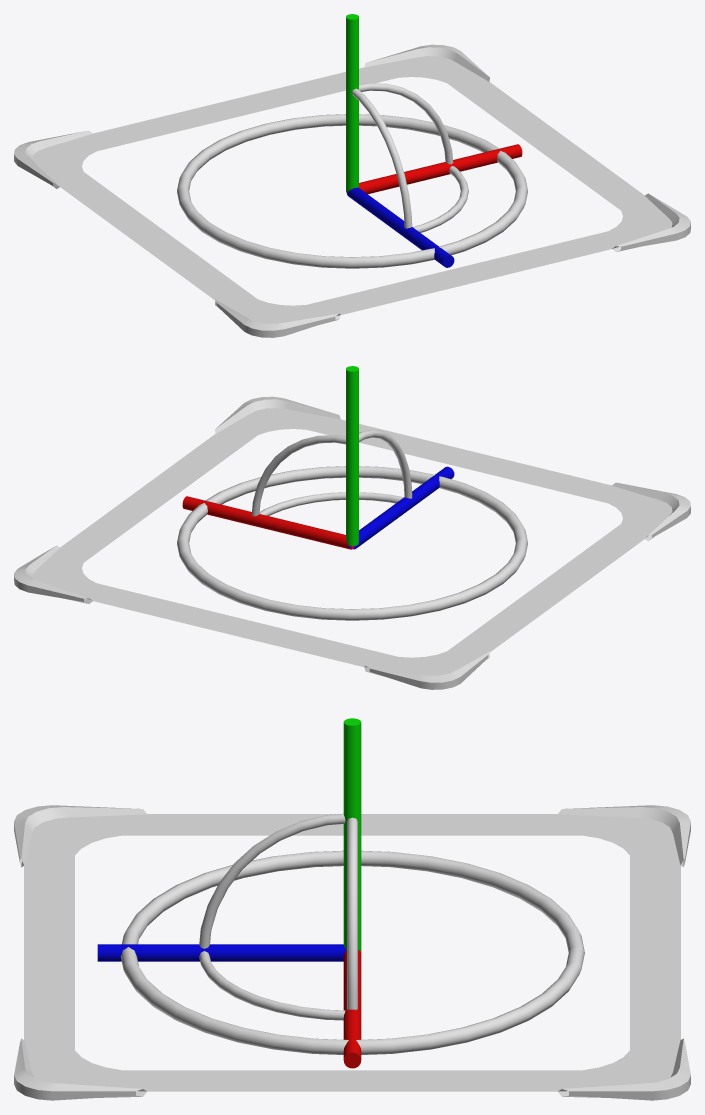
Rendered from Origin_Trace.fbx.
3 renders of one model, top to bottom at view 1: azimuth 30°, elevation 25°; view 2: azimuth 150°, elevation 25°; view 3: azimuth 270°, elevation 25°, orthographic. The views are drawn at different scales.
Parts seen in each view (by area): view 1: Origin, Gizmo; view 2: Origin, Gizmo; view 3: Origin, Gizmo.
Part boxes in pixels (x1,y1,x2,y2): Origin: (14,44,690,337); Gizmo: (346,14,522,267); Origin: (14,396,690,689); Gizmo: (182,366,454,549); Origin: (14,805,690,1100); Gizmo: (97,718,361,1068).
Bounding box in the file's own units: 17.47 × 6.8 × 17.47.
